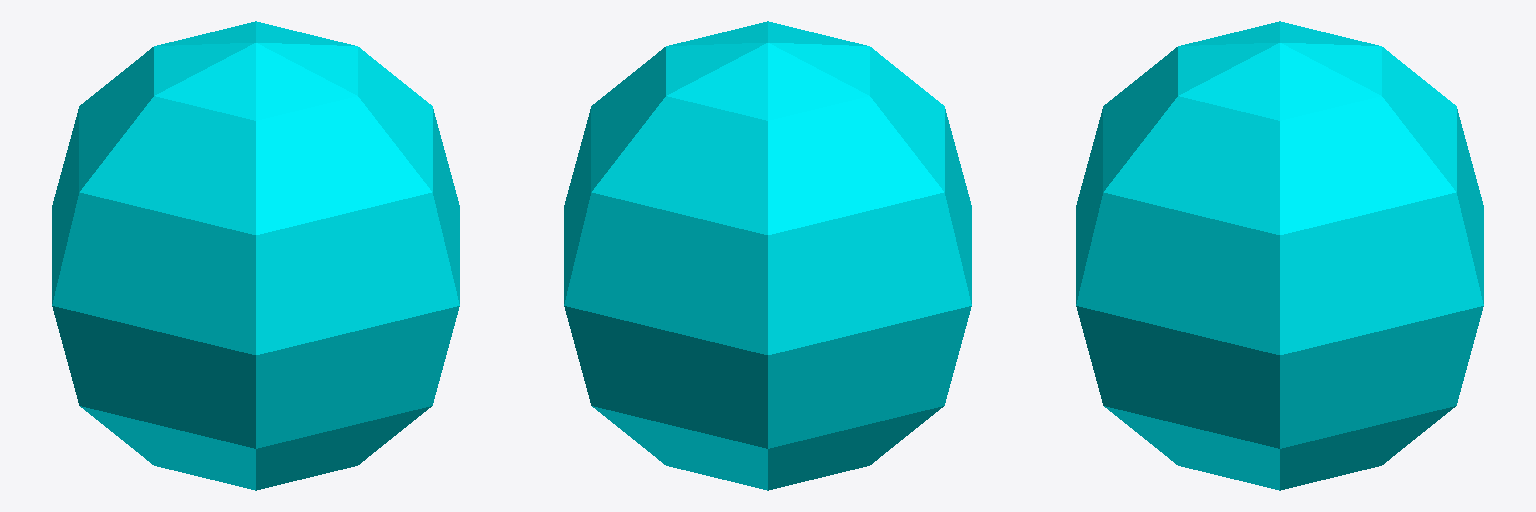
File: protbullet.obj
3 renders of one model, left to right at view 1: azimuth 30°, elevation 25°; view 2: azimuth 150°, elevation 25°; view 3: azimuth 270°, elevation 25°, orthographic.
Visible parts, largest first — view 1: pSphere1; view 2: pSphere1; view 3: pSphere1.
Part boxes in pixels (bbox=[...]): pSphere1: bbox=[52, 21, 459, 490]; pSphere1: bbox=[564, 21, 971, 490]; pSphere1: bbox=[1076, 21, 1483, 490].
Bounding box in the file's own units: 2 × 2 × 1.73.